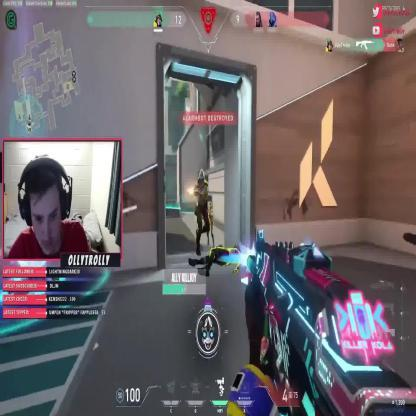enemy: (194, 171, 210, 256), (206, 196, 216, 248)
enemy_head: (198, 168, 206, 185), (209, 201, 212, 212)
